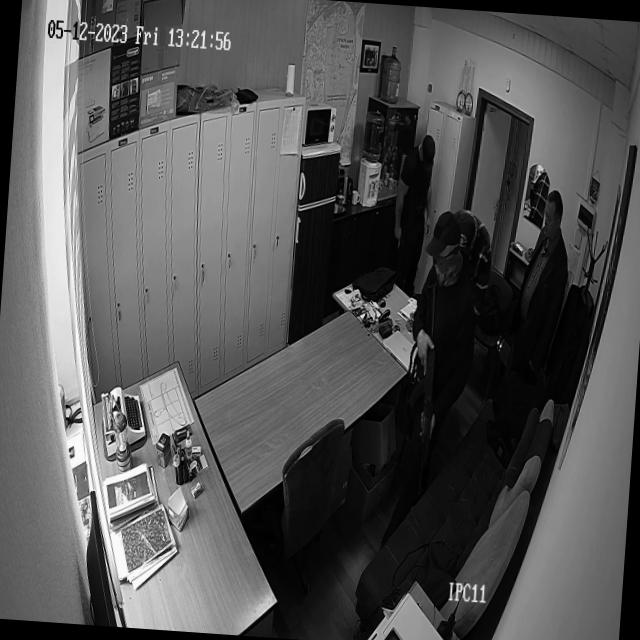gun: (405, 272, 449, 520)
person: (498, 158, 592, 409)
person with a gun: (398, 202, 486, 520)
